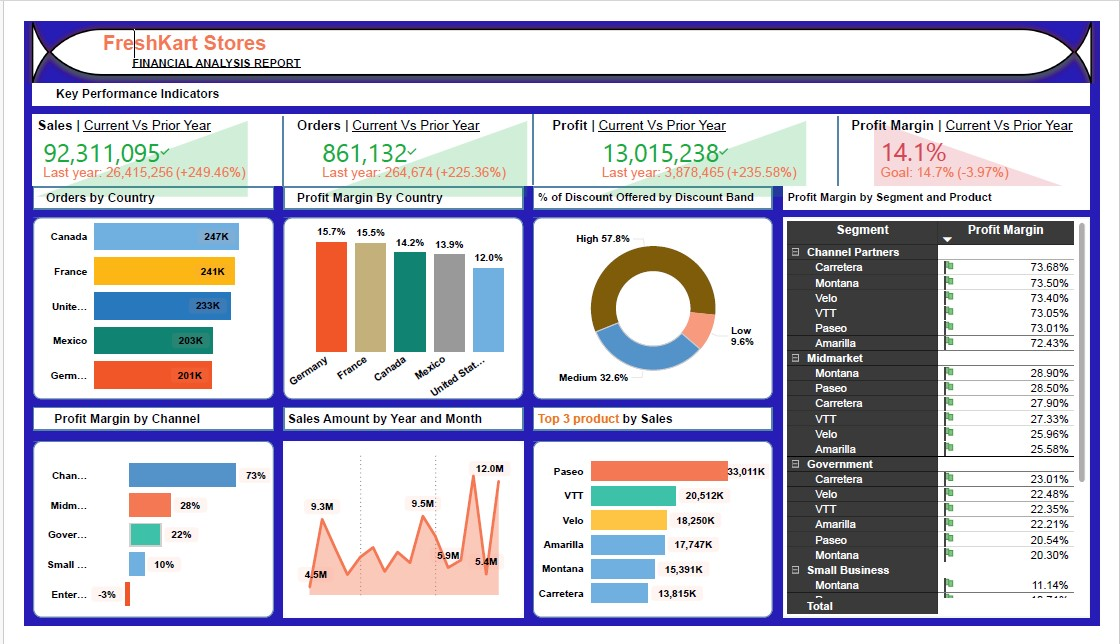

This screenshot's page, from the dashboard's own definition file:
{"tool":"powerbi","page":{"name":"Page 2","canvas":[1280,720],"ordinal":0},"visuals":[{"type":"shape","box":[904.3,234.3,364.3,475.7],"z":0},{"type":"shape","box":[0,0,1280,74.3],"z":1000},{"type":"shape","box":[10,74.3,1258.6,27.1],"z":2000},{"type":"shape","box":[10,111.4,1258.6,84.3],"z":3000},{"type":"shape","box":[11.4,234.3,285.7,215.7],"z":4000},{"type":"shape","box":[308.6,234.3,285.7,215.7],"z":5000},{"type":"shape","box":[605.7,234.3,285.7,215.7],"z":6000},{"type":"shape","box":[11.4,500,285.7,210],"z":7000},{"type":"shape","box":[605.7,500,285.7,210],"z":8000},{"type":"shape","box":[308.6,500,285.7,210],"z":9000},{"type":"shape","box":[11.4,197.1,285.7,27.1],"z":10000},{"type":"shape","box":[308.6,197.1,285.7,27.1],"z":11000},{"type":"shape","box":[605.7,197.1,285.7,27.1],"z":12000},{"type":"shape","box":[11.4,460,285.7,27.1],"z":13000},{"type":"shape","box":[308.6,460,285.7,27.1],"z":14000},{"type":"shape","box":[605.7,460,285.7,27.1],"z":15000},{"type":"textbox","box":[0,7.1,388.6,67.1],"z":16000},{"type":"textbox","box":[10,17.1,355.7,67.1],"z":17000},{"type":"textbox","box":[124.3,37.1,337.1,27.1],"z":18000},{"type":"textbox","box":[32.9,74.3,572.9,27.1],"z":19000},{"type":"kpi","fields":{"Indicator":["Analysis.Sales Amount"],"TrendLine":["Date Table.Year"],"Goal":["Analysis.Sales Last year"]},"box":[10,114.3,261.4,100],"z":20000},{"type":"textbox","box":[11.4,111.4,260,30],"z":21000},{"type":"shape","box":[120,114.3,377.1,82.9],"z":22000},{"type":"kpi","fields":{"TrendLine":["Date Table.Year"],"Indicator":["Analysis.Profit Margin"],"Goal":["Analysis.Profit Margin Last year"]},"box":[1007.1,114.3,261.4,97.1],"z":23000},{"type":"kpi","fields":{"TrendLine":["Date Table.Year"],"Goal":["Analysis.Order Last year"],"Indicator":["Analysis.Total Order"]},"box":[342.4,114.3,261.4,100],"z":24000},{"type":"kpi","fields":{"TrendLine":["Date Table.Year"],"Indicator":["Analysis.Total profit"],"Goal":["Analysis.Profit Last year"]},"box":[674.8,114.3,261.4,100],"z":25000},{"type":"shape","box":[451.4,111.4,310,82.9],"z":26000},{"type":"shape","box":[780,114.3,377.1,82.9],"z":27000},{"type":"textbox","box":[320,111.4,261.4,30],"z":28000},{"type":"textbox","box":[624.3,111.4,311.4,30],"z":29000},{"type":"textbox","box":[980,111.4,288.6,30],"z":30000},{"type":"clusteredBarChart","fields":{"Category":["Financial Data.Country"],"Y":["Analysis.Total Order"]},"box":[10,211.4,287.1,248.6],"z":31000},{"type":"textbox","box":[21.4,197.1,250,27.1],"z":32000},{"type":"columnChart","fields":{"Category":["Financial Data.Country"],"Y":["Analysis.Profit Margin"]},"box":[308.6,225.7,287.1,234.3],"z":33000},{"type":"textbox","box":[320,197.1,274.3,37.1],"z":34000},{"type":"textbox","box":[31.4,460,218.6,27.1],"z":35000},{"type":"textbox","box":[607.1,197.1,284.3,37.1],"z":36000},{"type":"textbox","box":[271.4,224.3,10,10],"z":37000},{"type":"textbox","box":[308.6,460,287.1,27.1],"z":38000},{"type":"textbox","box":[607.1,460,270,27.1],"z":39000},{"type":"donutChart","fields":{"Y":["Analysis.Discount Offeres"],"Series":["Financial Data.Discount Band"]},"box":[607.1,234.3,284.3,215.7],"z":40000},{"type":"barChart","fields":{"Category":["Financial Data.Segment"],"Y":["Analysis.Profit Margin"]},"box":[10,500,287.1,215.7],"z":41000},{"type":"lineChart","fields":{"Category":["Date Table.Date.Variation.Date Hierarchy.Year","Date Table.Date.Variation.Date Hierarchy.Month"],"Y":["Analysis.Sales Amount"]},"box":[308.6,500,285.7,210],"z":42000},{"type":"barChart","fields":{"Category":["Financial Data.Product"],"Y":["Analysis.Sales Amount"]},"box":[605.7,500,285.7,210],"z":43000},{"type":"pivotTable","fields":{"Rows":["Financial Data.Segment","Financial Data.Product"],"Values":["Analysis.Profit Margin"]},"box":[904.3,234.3,364.3,475.7],"z":44000},{"type":"textbox","box":[904.3,197.1,364.3,27.1],"z":45000}]}

Visuals, with their boxes in screenshot pixels (x1, y1, x2, y2), scaled from the page's 1280x720 canvas onto the 1120x644 screenshot:
shape: crop(791, 210, 1110, 635)
shape: crop(0, 0, 1119, 66)
shape: crop(9, 66, 1110, 91)
shape: crop(9, 100, 1110, 175)
shape: crop(10, 210, 260, 402)
shape: crop(270, 210, 520, 402)
shape: crop(530, 210, 780, 402)
shape: crop(10, 447, 260, 635)
shape: crop(530, 447, 780, 635)
shape: crop(270, 447, 520, 635)
shape: crop(10, 176, 260, 201)
shape: crop(270, 176, 520, 201)
shape: crop(530, 176, 780, 201)
shape: crop(10, 411, 260, 436)
shape: crop(270, 411, 520, 436)
shape: crop(530, 411, 780, 436)
textbox: crop(0, 6, 340, 66)
textbox: crop(9, 15, 320, 75)
textbox: crop(109, 33, 404, 57)
textbox: crop(29, 66, 530, 91)
kpi - Analysis.Sales Amount x Date Table.Year: crop(9, 102, 237, 192)
textbox: crop(10, 100, 237, 126)
shape: crop(105, 102, 435, 176)
kpi - Date Table.Year x Analysis.Profit Margin: crop(881, 102, 1110, 189)
kpi - Date Table.Year x Analysis.Order Last year: crop(300, 102, 528, 192)
kpi - Date Table.Year x Analysis.Total profit: crop(590, 102, 819, 192)
shape: crop(395, 100, 666, 174)
shape: crop(682, 102, 1012, 176)
textbox: crop(280, 100, 509, 126)
textbox: crop(546, 100, 819, 126)
textbox: crop(858, 100, 1110, 126)
clusteredBarChart - Financial Data.Country x Analysis.Total Order: crop(9, 189, 260, 411)
textbox: crop(19, 176, 237, 201)
columnChart - Financial Data.Country x Analysis.Profit Margin: crop(270, 202, 521, 411)
textbox: crop(280, 176, 520, 209)
textbox: crop(27, 411, 219, 436)
textbox: crop(531, 176, 780, 209)
textbox: crop(237, 201, 246, 210)
textbox: crop(270, 411, 521, 436)
textbox: crop(531, 411, 767, 436)
donutChart - Analysis.Discount Offeres x Financial Data.Discount Band: crop(531, 210, 780, 402)
barChart - Financial Data.Segment x Analysis.Profit Margin: crop(9, 447, 260, 640)
lineChart - Date Table.Date.Variation.Date Hierarchy.Year x Date Table.Date.Variation.Date Hierarchy.Month: crop(270, 447, 520, 635)
barChart - Financial Data.Product x Analysis.Sales Amount: crop(530, 447, 780, 635)
pivotTable - Financial Data.Segment x Financial Data.Product: crop(791, 210, 1110, 635)
textbox: crop(791, 176, 1110, 201)
